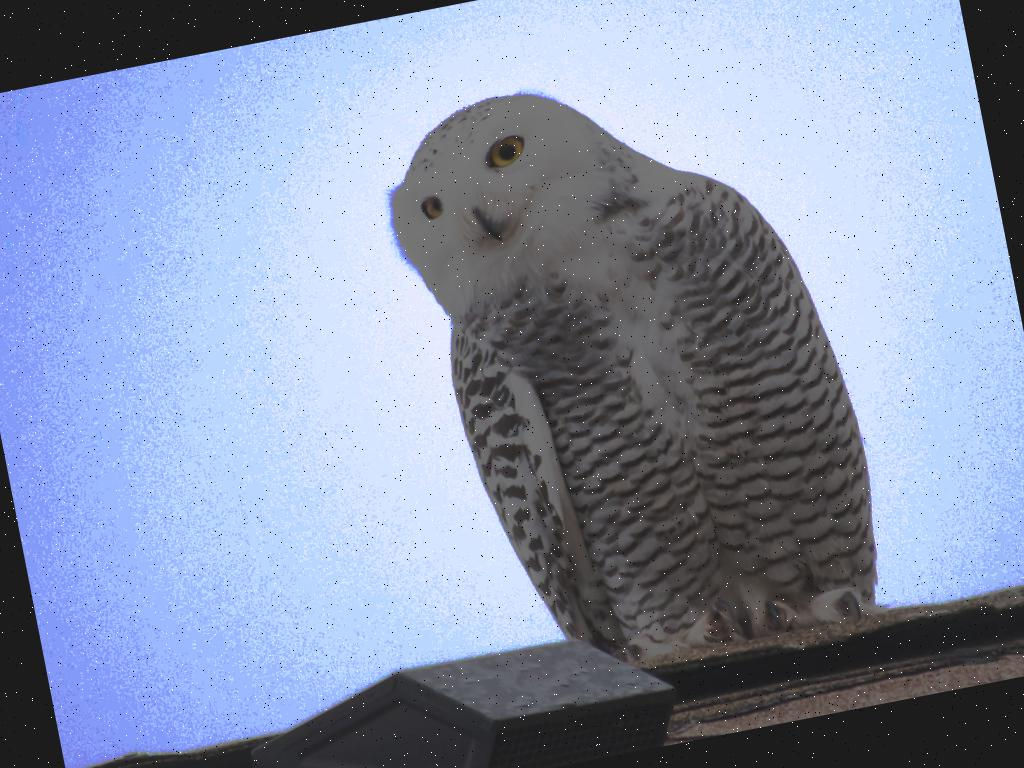Owl: (370, 37, 896, 698)
